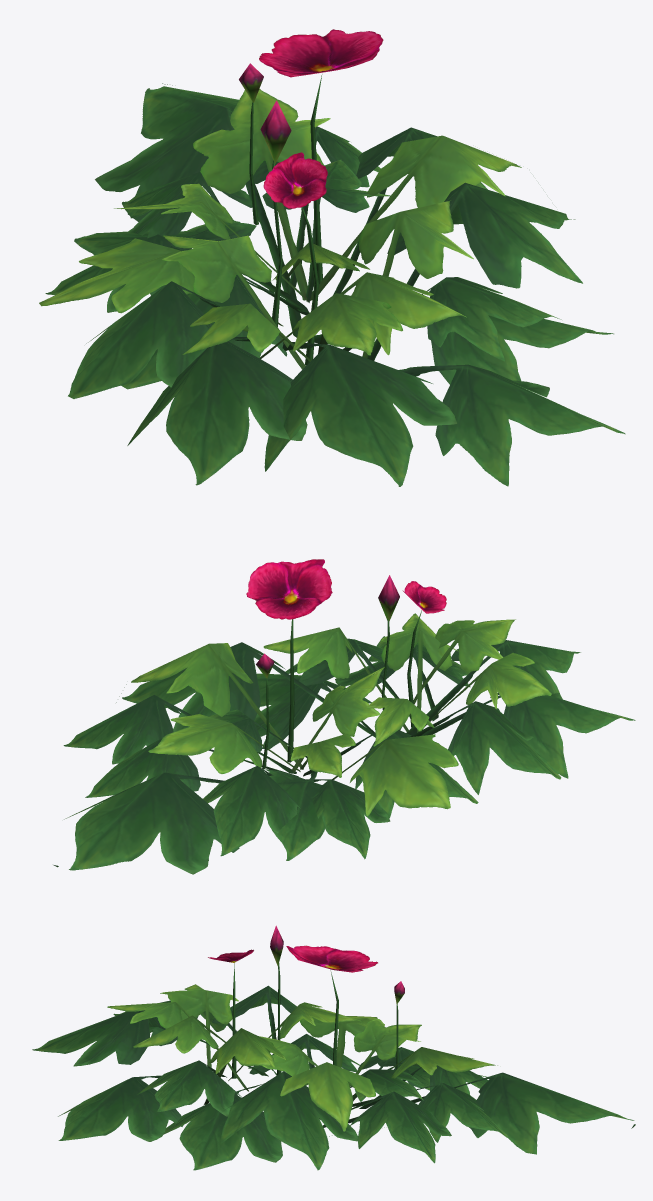
The model's file is wm_灌木洛阳城大灌08.fbx.
3 renders of one model, top to bottom at view 1: azimuth 30°, elevation 25°; view 2: azimuth 150°, elevation 25°; view 3: azimuth 270°, elevation 25°, orthographic. The views are drawn at different scales.
Parts seen in each view (by area): view 1: wm_灌木洛阳城大灌08; view 2: wm_灌木洛阳城大灌08; view 3: wm_灌木洛阳城大灌08.
Part boxes in pixels (x1,y1,x2,y2): wm_灌木洛阳城大灌08: (39, 29, 625, 486); wm_灌木洛阳城大灌08: (53, 559, 635, 874); wm_灌木洛阳城大灌08: (32, 925, 635, 1170).
Size of the model in its own units: 224 by 118 by 327.
